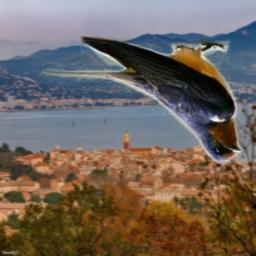Swallow: (42, 36, 242, 166)
